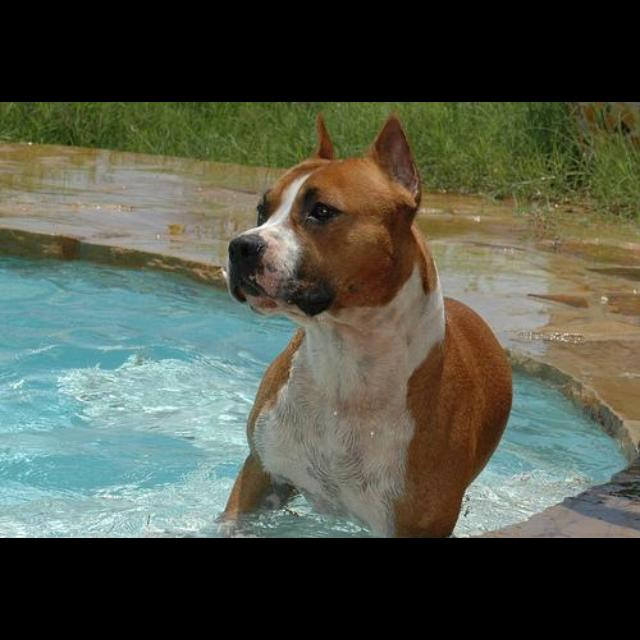amstaff: (216, 112, 515, 538)
